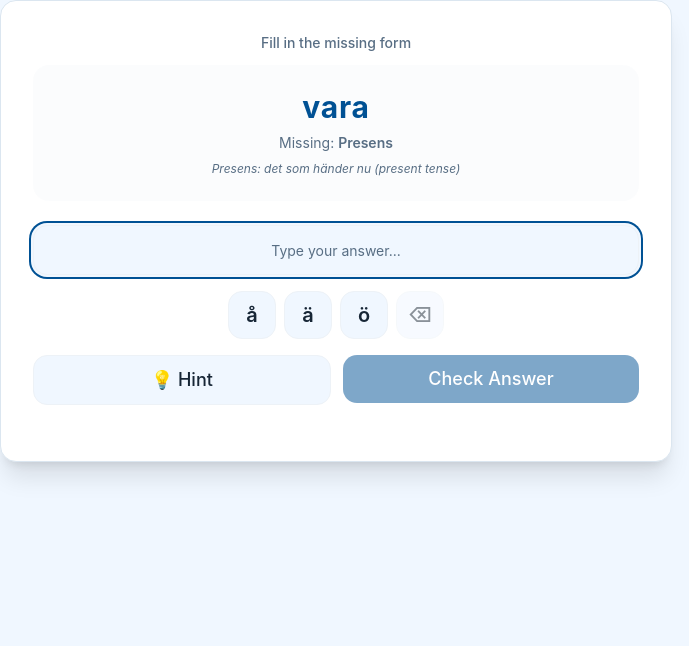
Scenario: PracticeCard - typing mode › does not auto-submit when the typed answer becomes correct; grading requires clicking Check Answer
The image size is (689, 646).
In the field with placeholder "Type your answer...": point(336, 250) [33,225,639,275], type "är"
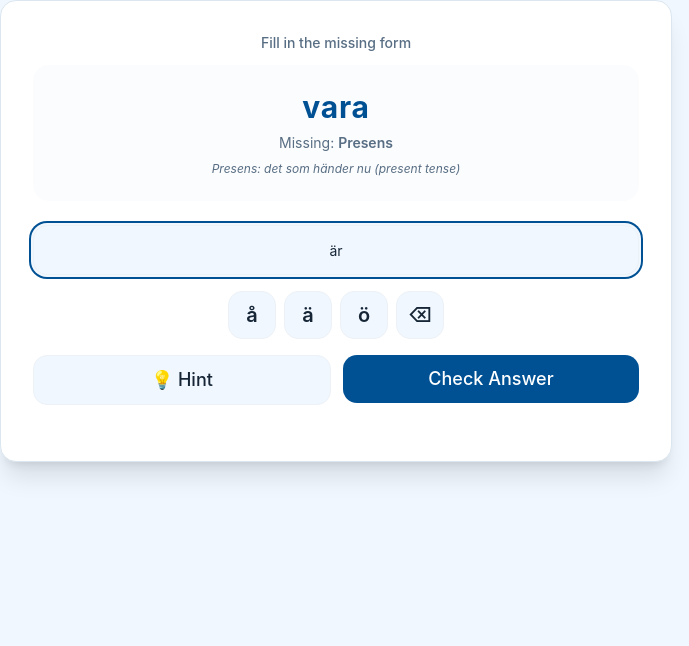
Expected: the text "Correct!" is not shown
// Only the explicit click grades it.
Click the button "Check Answer": point(491, 379) [343,355,639,403]
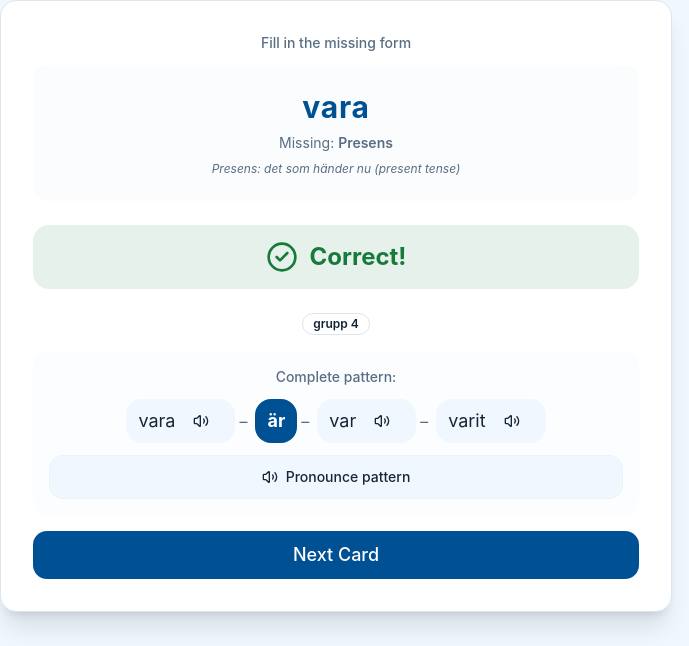
Expected: the text "Correct!" is shown, [310,241,406,273]
